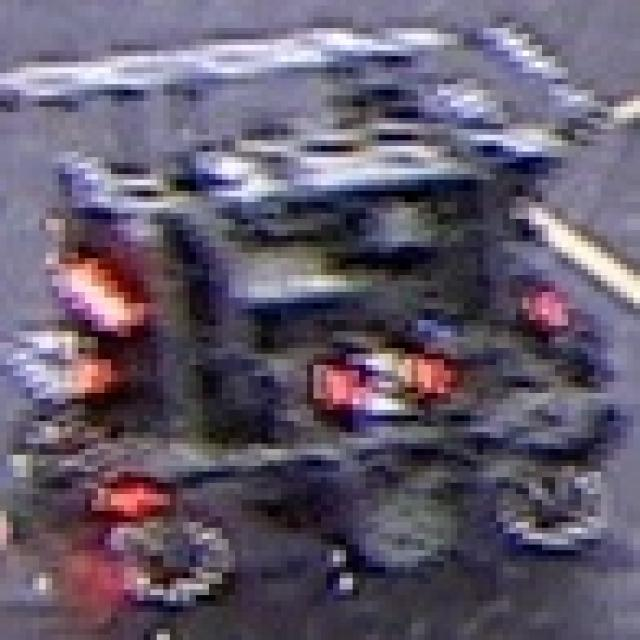R2: (307, 326, 464, 421)
